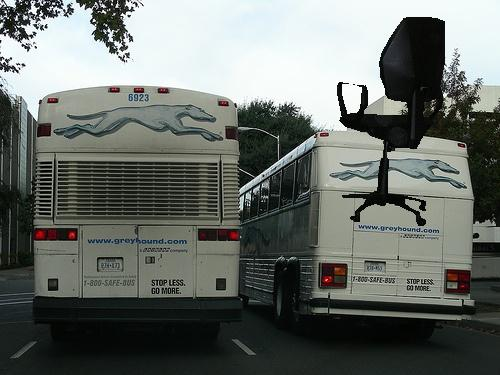tampered: (338, 18, 445, 226)
